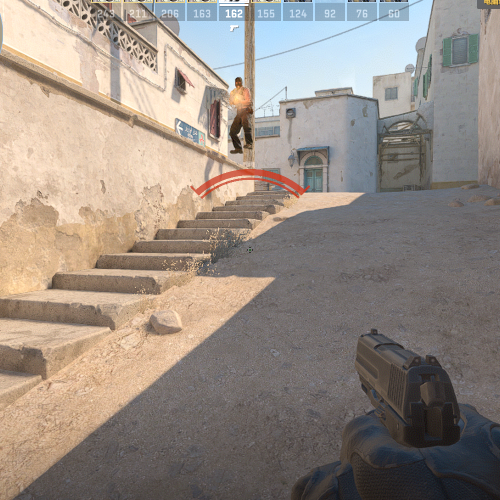t_body: (228, 76, 254, 155)
t_head: (234, 76, 244, 89)
